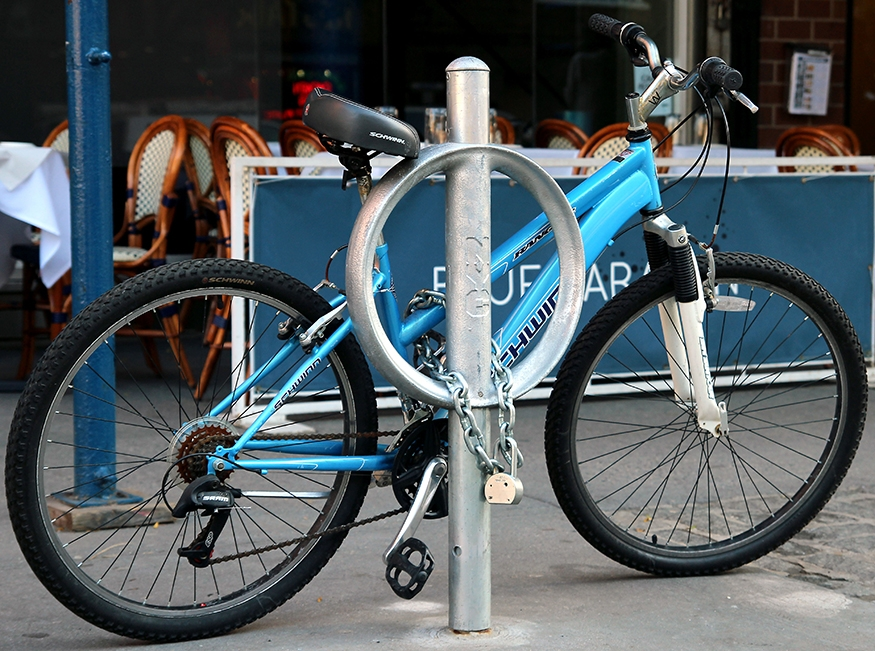Bicycle: (33, 15, 869, 641)
